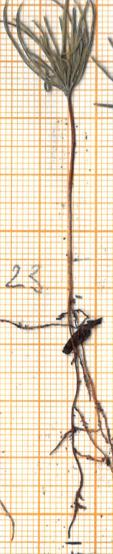flower: (2, 0, 98, 97)
root: (2, 307, 113, 542)
stem: (63, 101, 81, 307)
